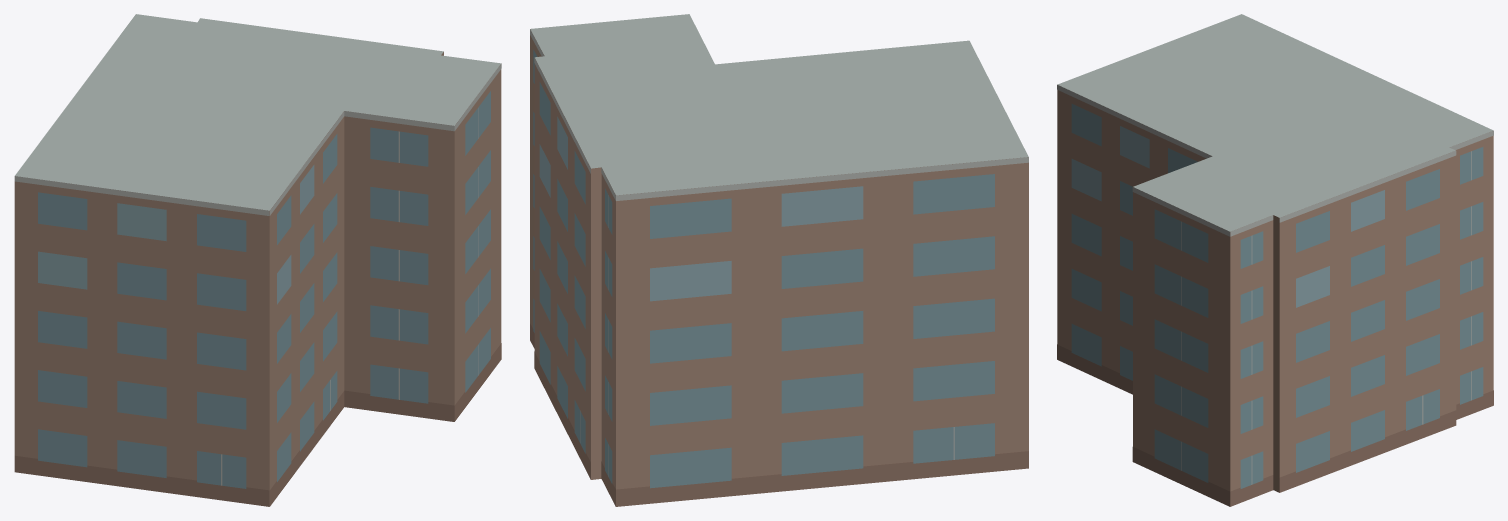
The model's file is survey-upis-32649519.glb.
3 views of the same model, side by side, from view 1: azimuth 30°, elevation 25°; view 2: azimuth 150°, elevation 25°; view 3: azimuth 270°, elevation 25° (orthographic). The views are drawn at different scales.
Visible parts, largest first — view 1: survey-upis-32649519.tmp; view 2: survey-upis-32649519.tmp; view 3: survey-upis-32649519.tmp.
Part boxes in pixels (x1=…): survey-upis-32649519.tmp: x1=14, y1=14, x2=501, y2=506; survey-upis-32649519.tmp: x1=530, y1=14, x2=1028, y2=506; survey-upis-32649519.tmp: x1=1057, y1=14, x2=1493, y2=506.
Bounding box in the file's own units: 22.5 × 13.25 × 19.06.
